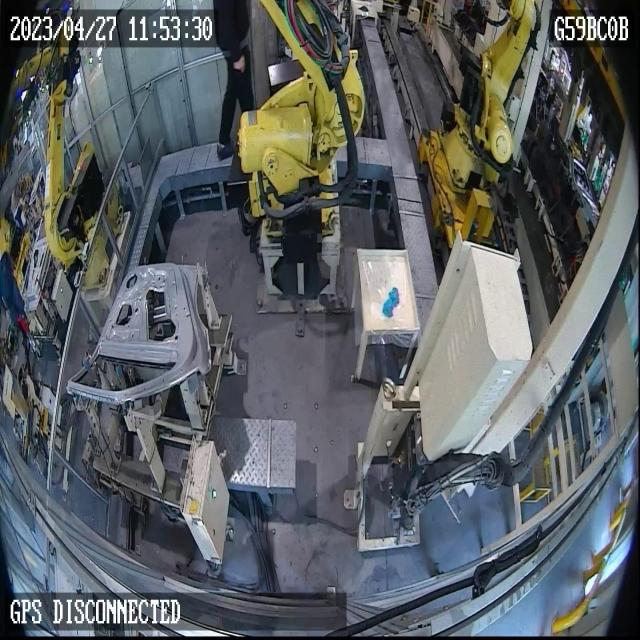Person: (213, 0, 254, 161)
